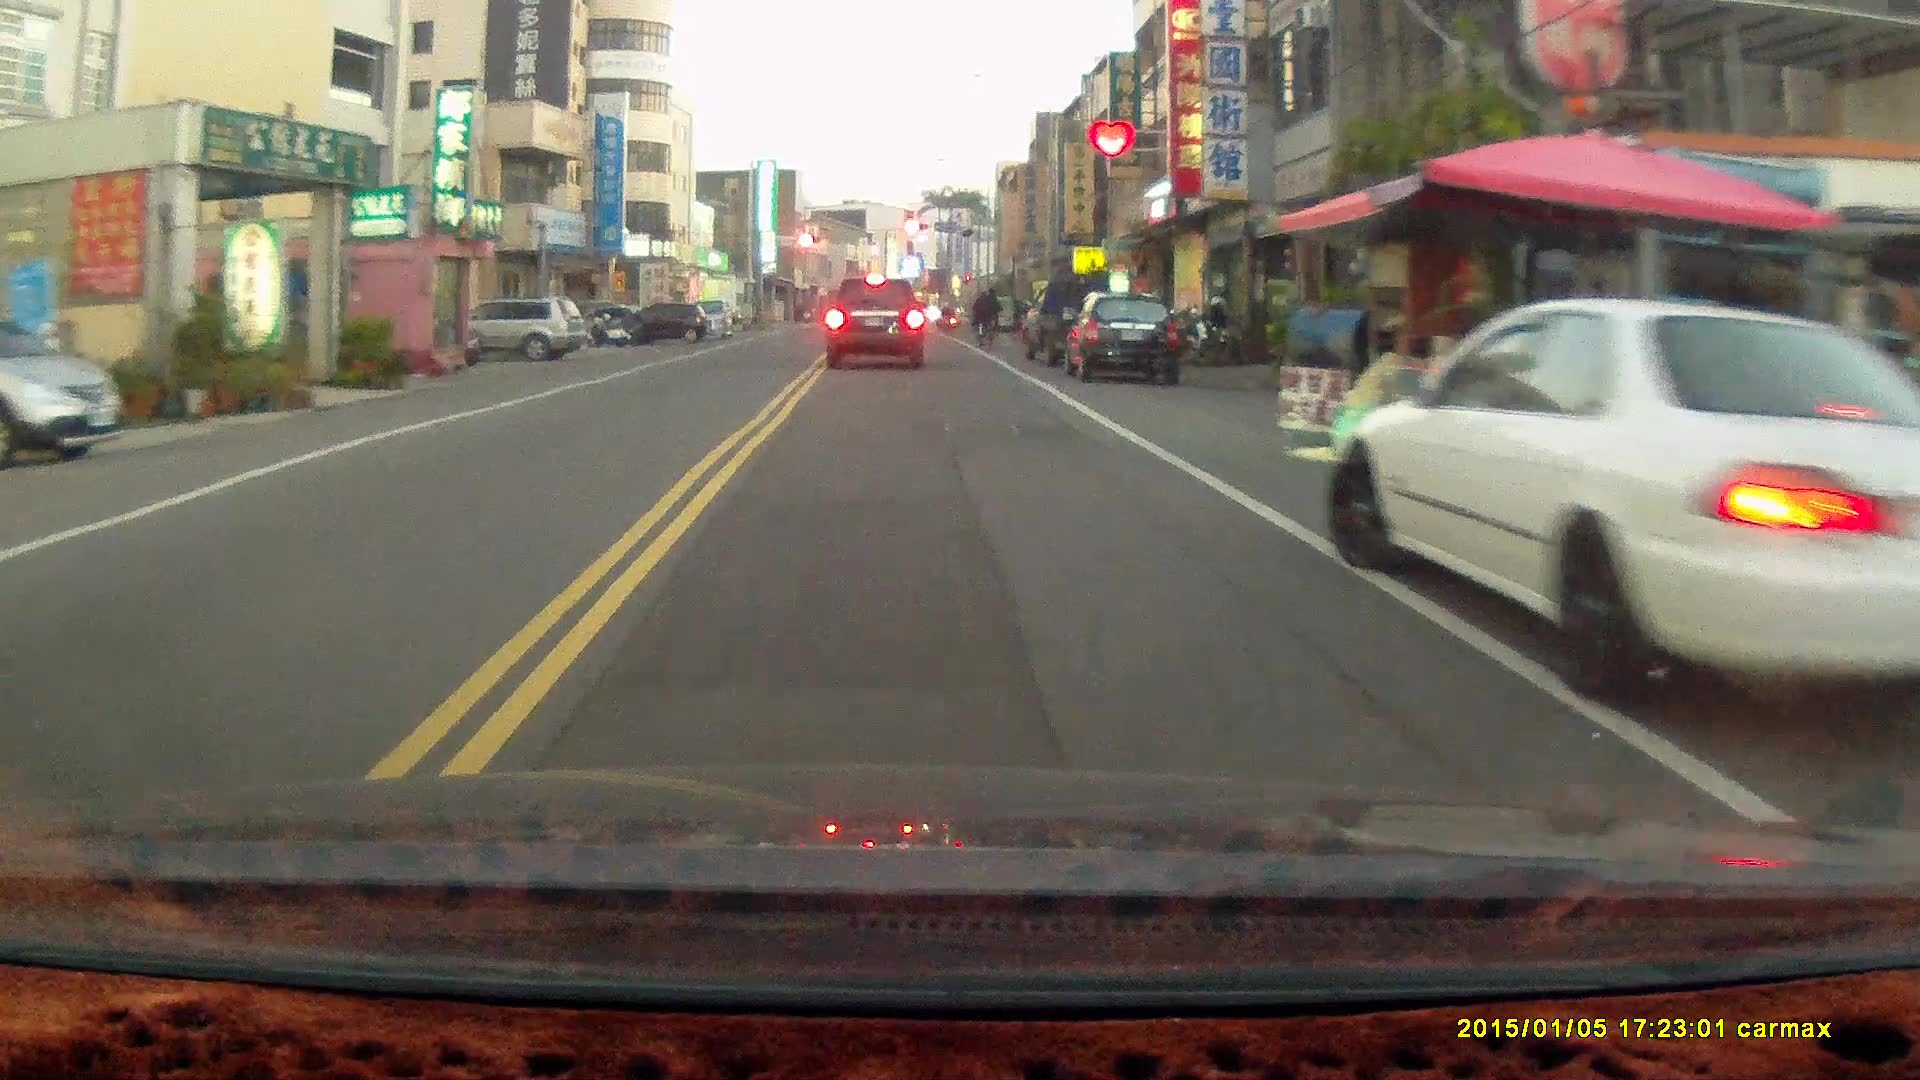rider: (973, 283, 1003, 347)
vehicle: (1325, 293, 1920, 710), (1, 316, 125, 464), (1064, 293, 1190, 389), (823, 275, 931, 369), (434, 295, 588, 359), (606, 297, 706, 344)
